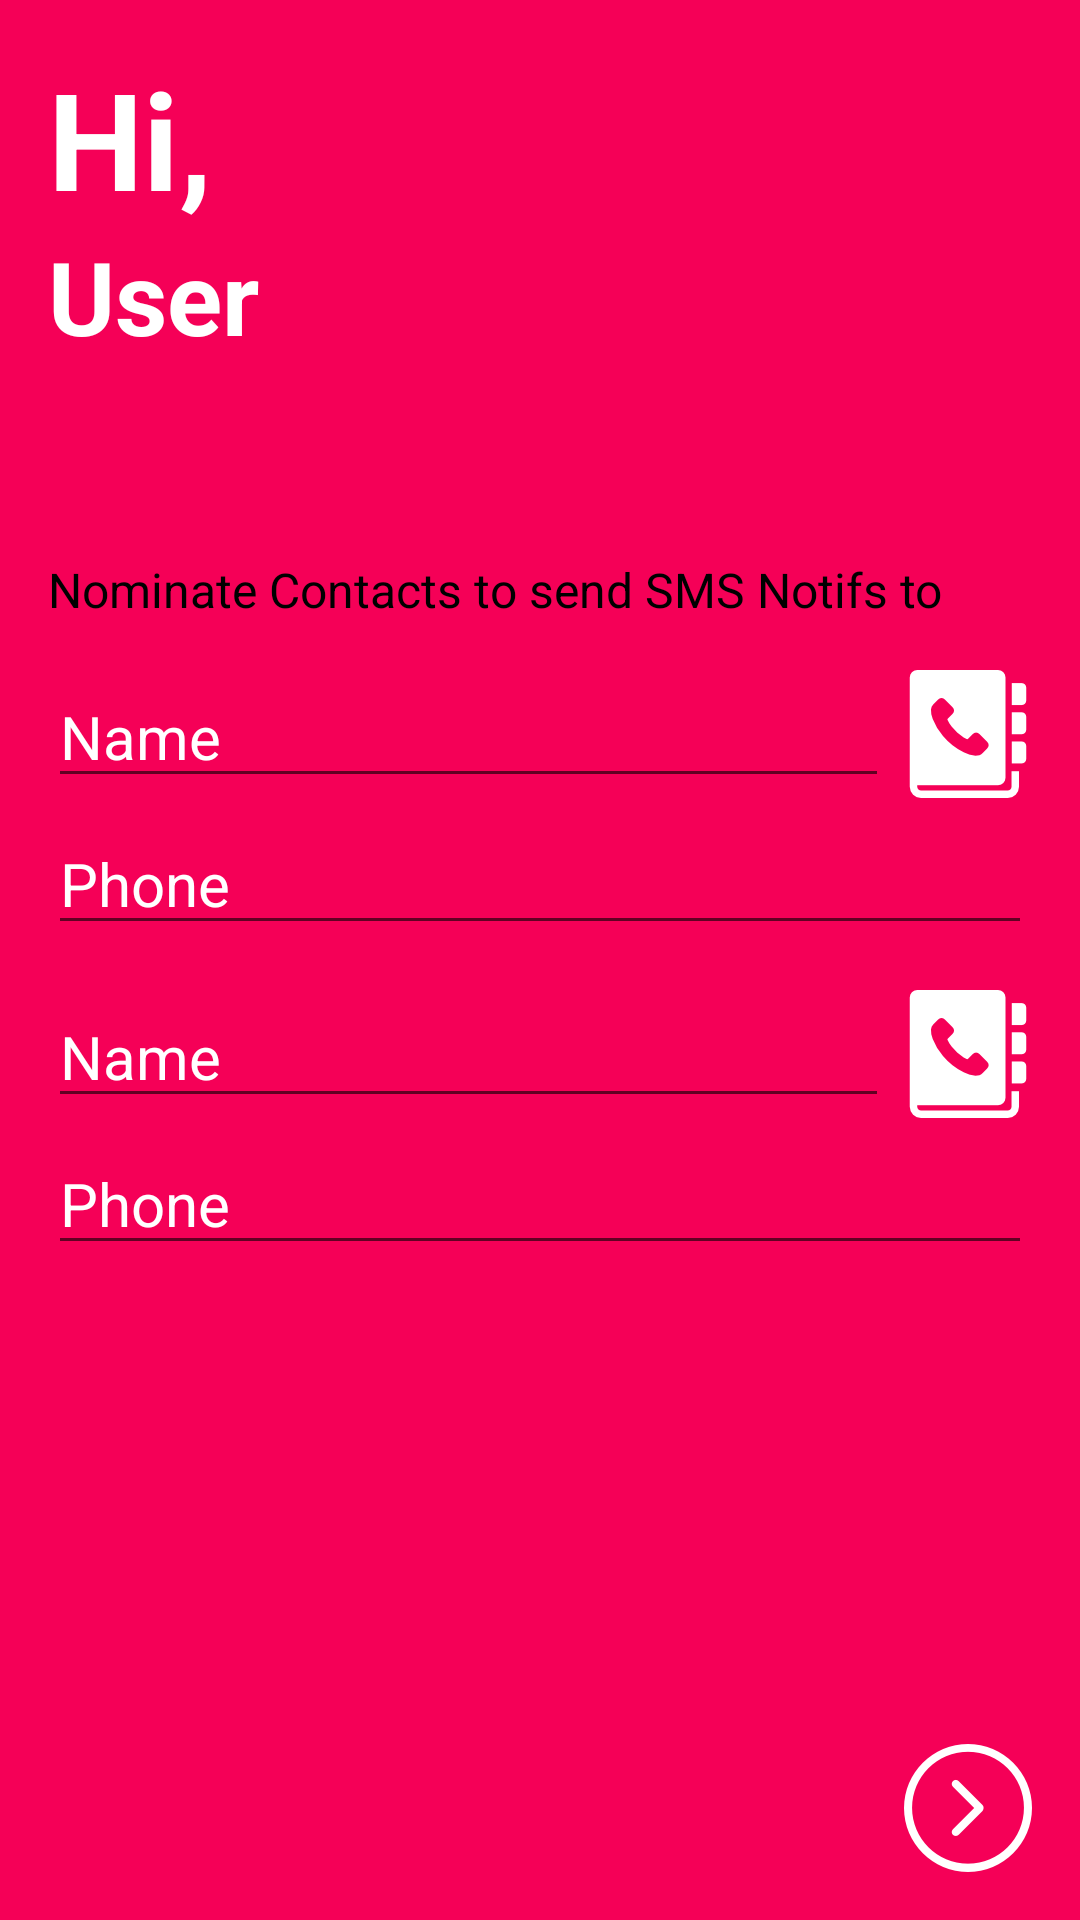

Icon click points for this 1080x1920 phone screenshot, format (x,y):
next: (968,1808)
